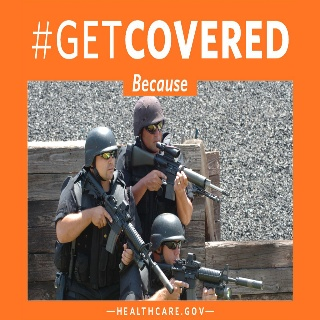rifle: (73, 168, 176, 295), (124, 140, 230, 206), (151, 252, 267, 295)
